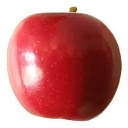apple: (6, 7, 123, 122)
